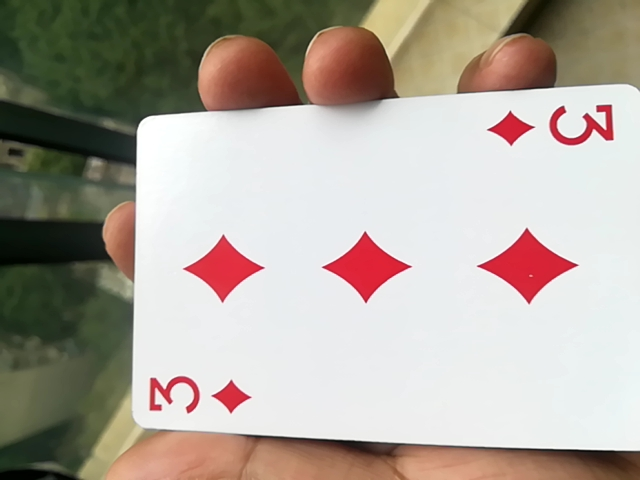fk 3: (116, 109, 638, 469)
